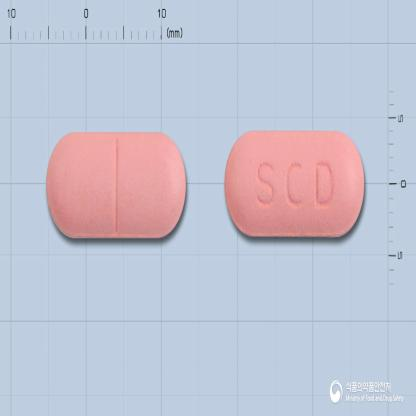pill: (44, 130, 188, 239), (224, 129, 366, 238)
